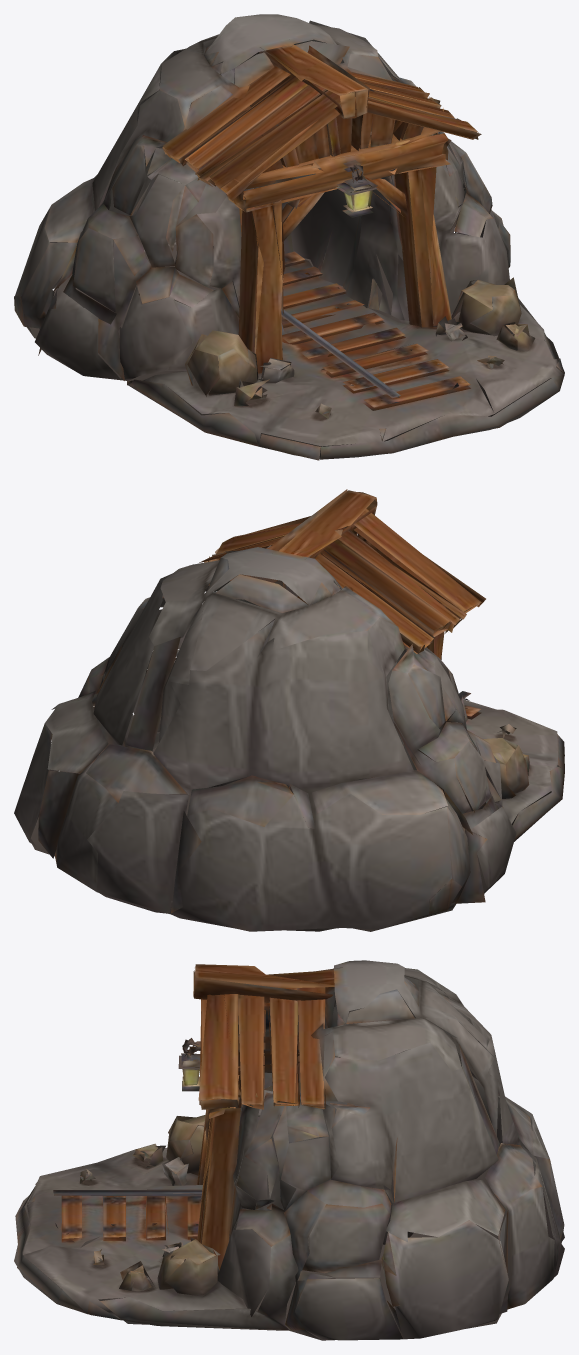
File: k-mine-semis.glb
3 views of the same model, one above another, from view 1: azimuth 30°, elevation 25°; view 2: azimuth 150°, elevation 25°; view 3: azimuth 270°, elevation 25° (orthographic). The views are drawn at different scales.
Parts seen in each view (by area): view 1: k-mine-semis; view 2: k-mine-semis; view 3: k-mine-semis.
Part boxes in pixels (x1,y1,x2,y2): k-mine-semis: (14,14,564,460); k-mine-semis: (14,489,564,931); k-mine-semis: (14,960,564,1340).
Bounding box in the file's own units: 0.8683 × 0.527 × 0.9585.
Materials: 1 (1 with a texture image).
